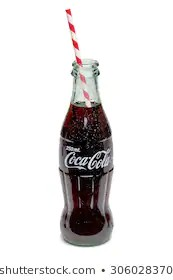coke-glass-bottle: (54, 52, 116, 250)
